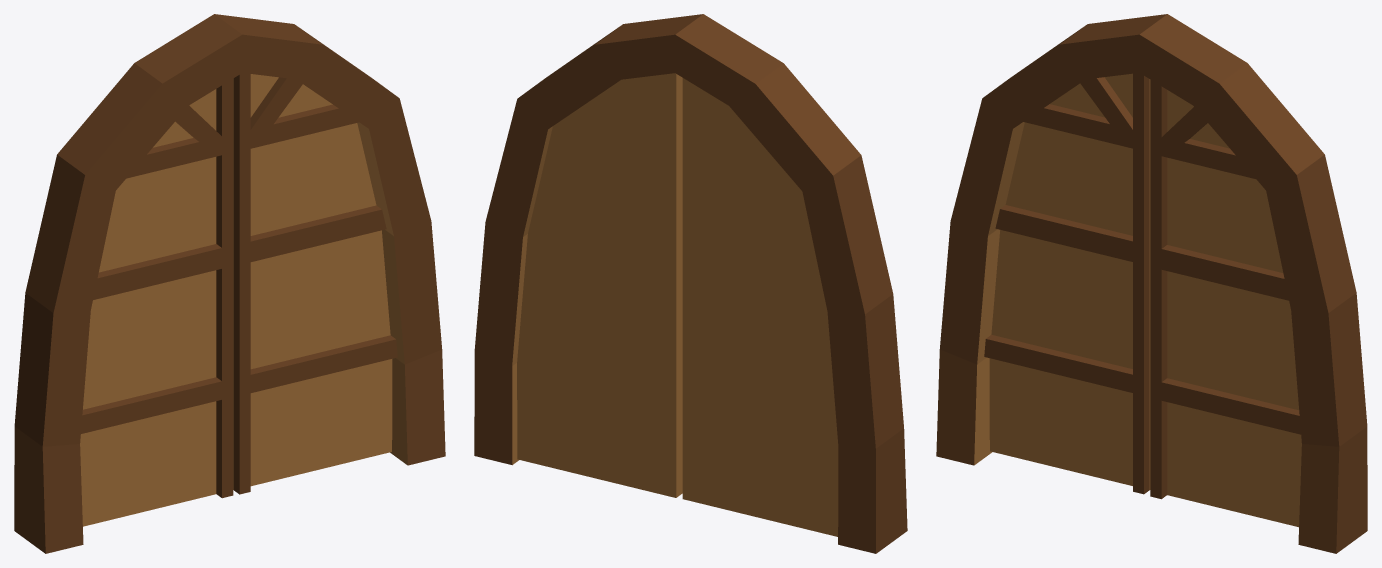
File: door.glb
The picture shows the model from 3 angles, left to right: view 1: azimuth 30°, elevation 25°; view 2: azimuth 150°, elevation 25°; view 3: azimuth 330°, elevation 25°; orthographic projection.
Visible parts, largest first — view 1: Door, RightDoor, LeftDoor; view 2: Door, RightDoor, LeftDoor; view 3: Door, LeftDoor, RightDoor.
Boxes of the visible parts, x1=… form: Door: x1=14, y1=14, x2=445, y2=553; RightDoor: x1=233, y1=73, x2=397, y2=494; LeftDoor: x1=80, y1=79, x2=233, y2=526; Door: x1=474, y1=14, x2=907, y2=553; RightDoor: x1=517, y1=73, x2=682, y2=497; LeftDoor: x1=682, y1=78, x2=838, y2=536; Door: x1=936, y1=14, x2=1367, y2=553; LeftDoor: x1=984, y1=73, x2=1150, y2=494; RightDoor: x1=1150, y1=79, x2=1301, y2=527.
Size of the model in its own units: 0.8908 by 0.9966 by 0.1209.
